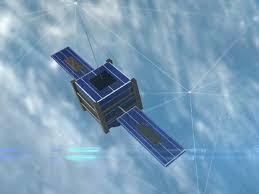body: (69, 57, 146, 136)
solar: (115, 104, 188, 169), (49, 45, 95, 83)
